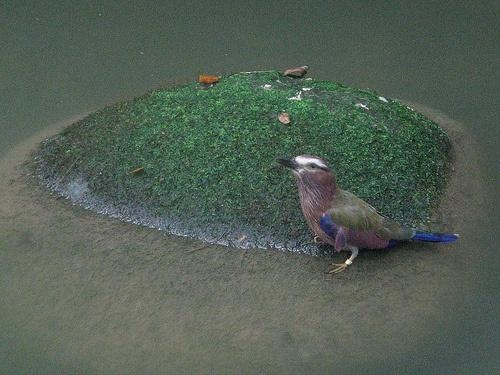bird: (275, 154, 461, 275)
